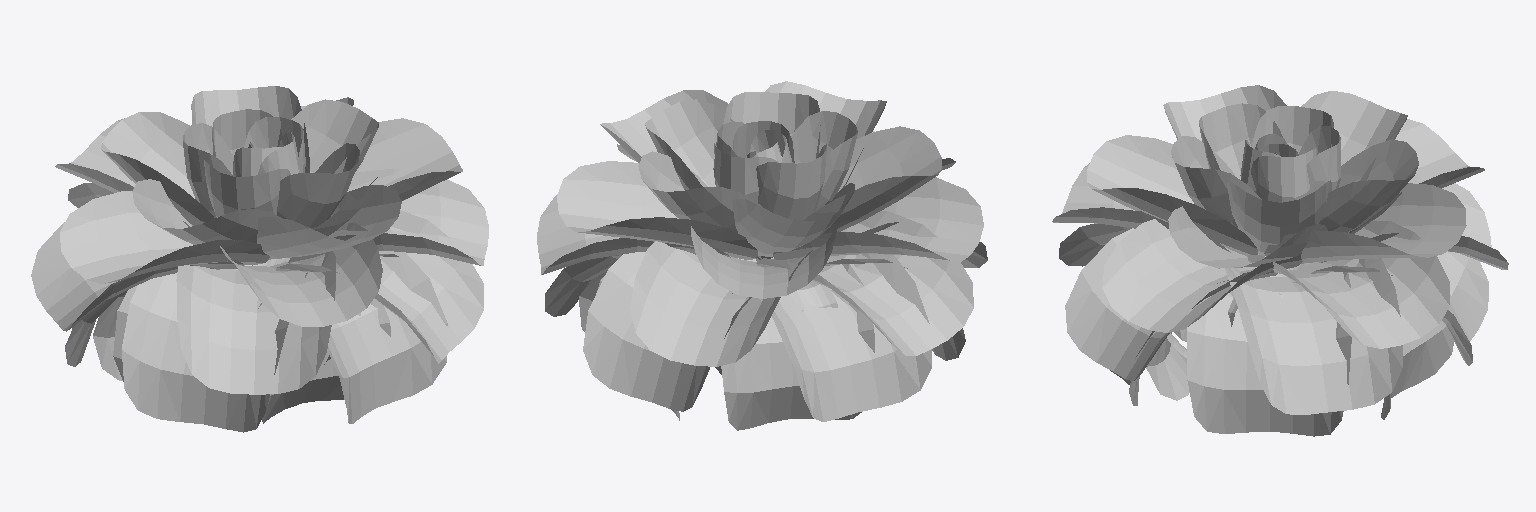
Rendered from FlowerTopModel_03_seq_0058.obj.
3 views of the same model, side by side, from view 1: azimuth 30°, elevation 25°; view 2: azimuth 150°, elevation 25°; view 3: azimuth 270°, elevation 25° (orthographic).
Parts seen in each view (by area): view 1: FlowerTopModel_03; view 2: FlowerTopModel_03; view 3: FlowerTopModel_03.
Part boxes in pixels (bbox=[...]): FlowerTopModel_03: bbox=[31, 86, 488, 432]; FlowerTopModel_03: bbox=[537, 81, 987, 430]; FlowerTopModel_03: bbox=[1052, 85, 1508, 436].
Bounding box in the file's own units: 921 × 549 × 936.